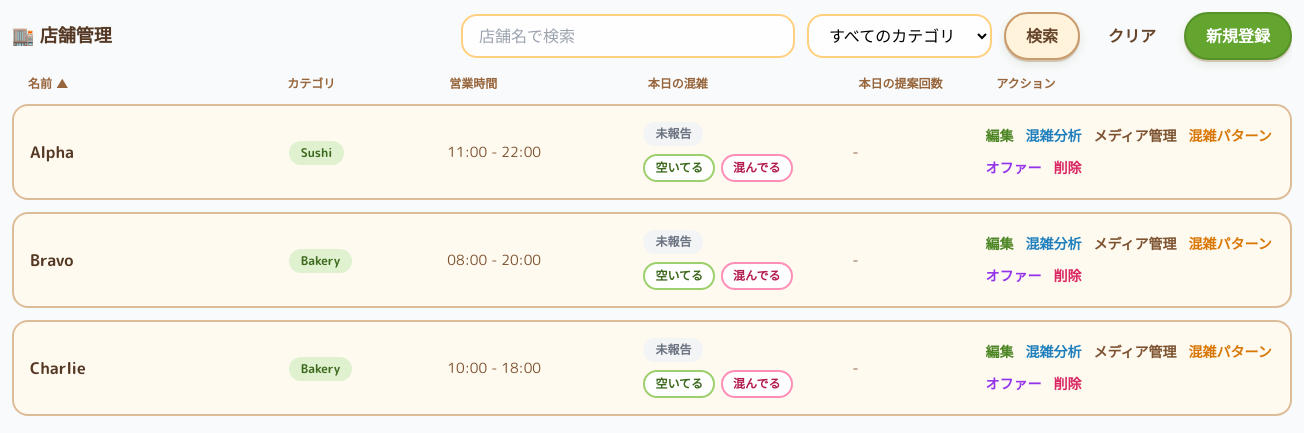
Test: StoreManagementPanel 検索・絞り込み・ソート › 検索ボタンを押すと店舗名の部分一致で絞り込まれる
Expected: the text "Charlie" is shown, [30,357,86,379]
Type "al" into the field with placeholder "店舗名で検索" at (628, 36), box [461,14,795,58]
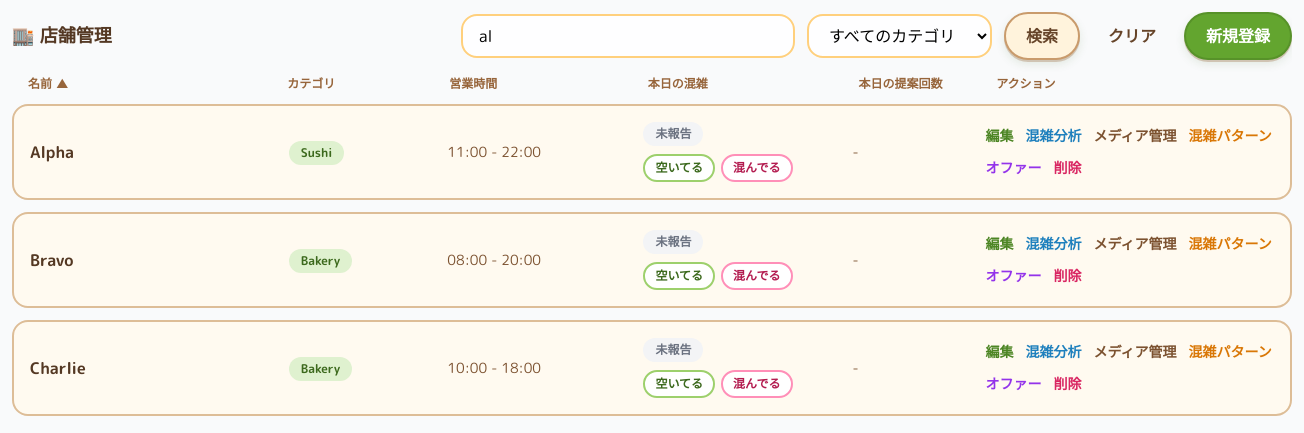
Click the button "検索" at (1042, 36), box [1004,12,1080,60]
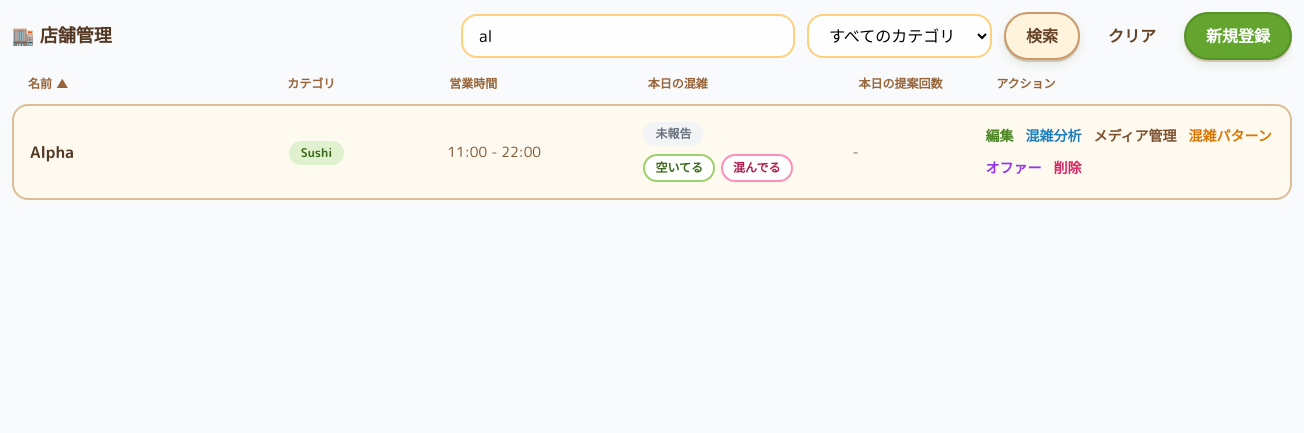
Expected: the text "Alpha" is shown, [30,141,74,163]
Expected: the text "Charlie" is gone
Expected: the text "Bravo" is gone
